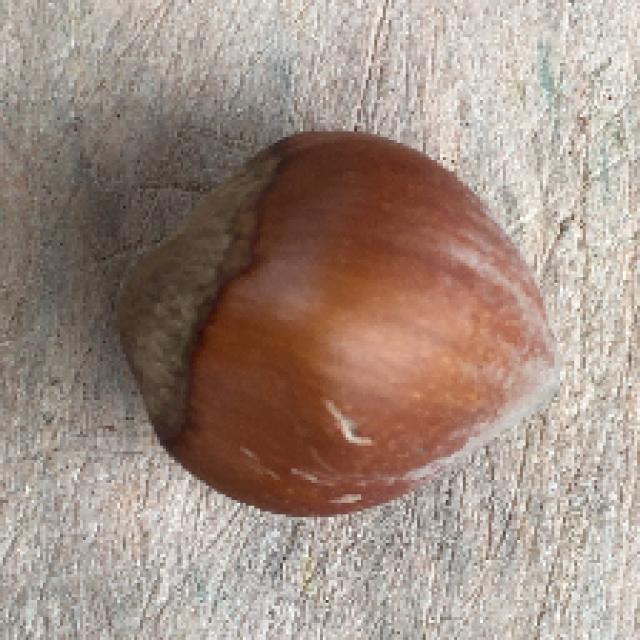qualityHazelnut: (110, 128, 579, 524)
